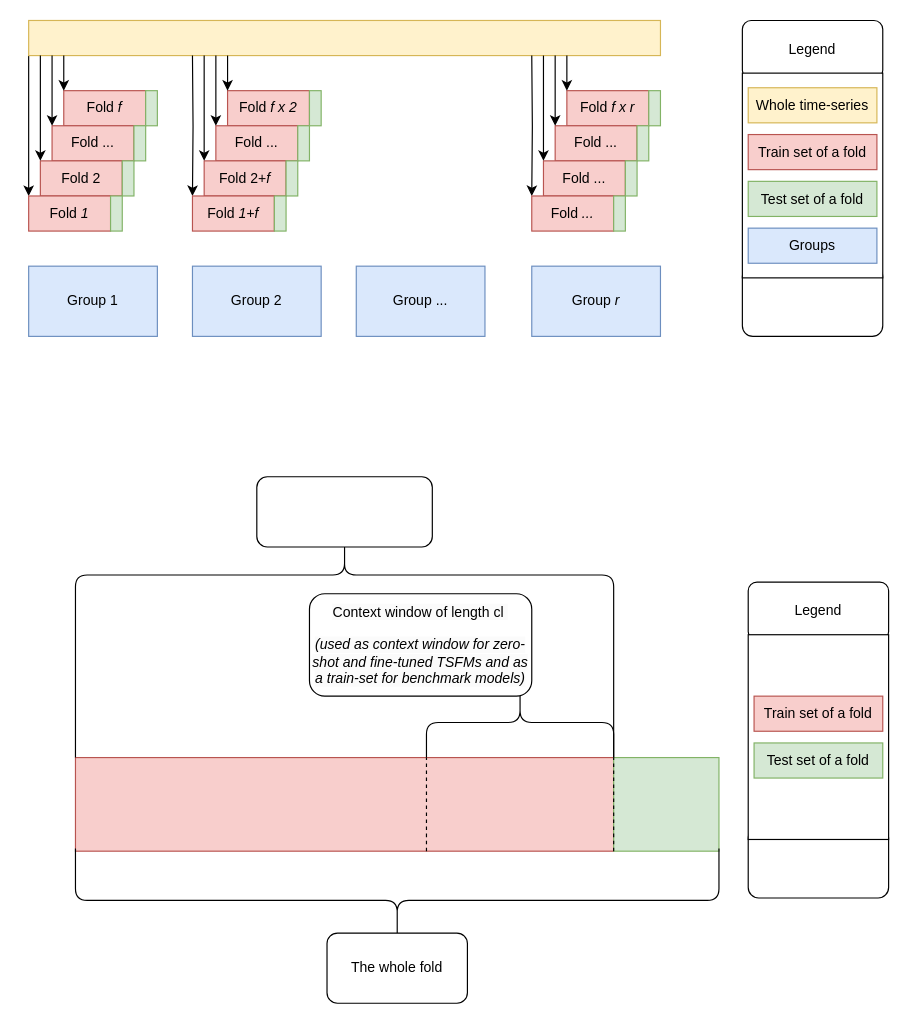
Image size: 909x1024. Some labels were removed from this diagram. The box of each missing label's shape, as (x1, y1, x2, y2) in pixels:
Fine-tuning set of length n (only used by fine-tuned TSFMs): (256, 476, 432, 547)
Time Series S: (27, 19, 660, 56)
